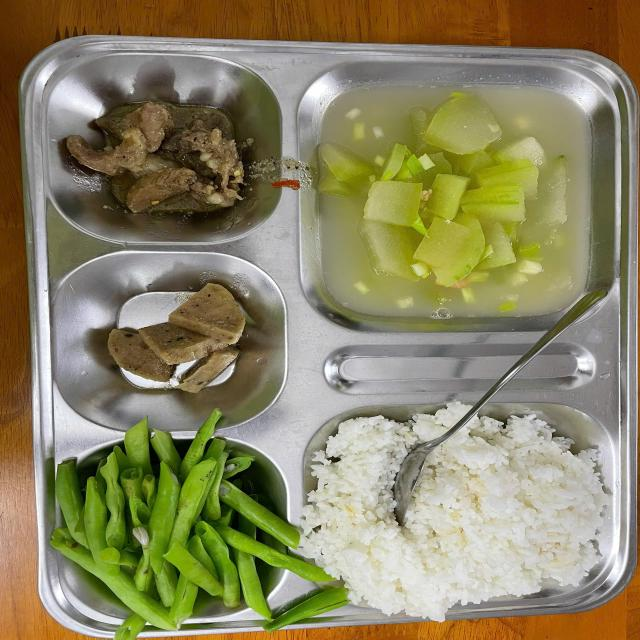canhbixanh: (322, 86, 597, 315)
dauque: (52, 437, 288, 626)
giocha: (94, 279, 248, 398)
salad: (326, 418, 598, 600)
thitkhogung: (46, 80, 264, 241)
